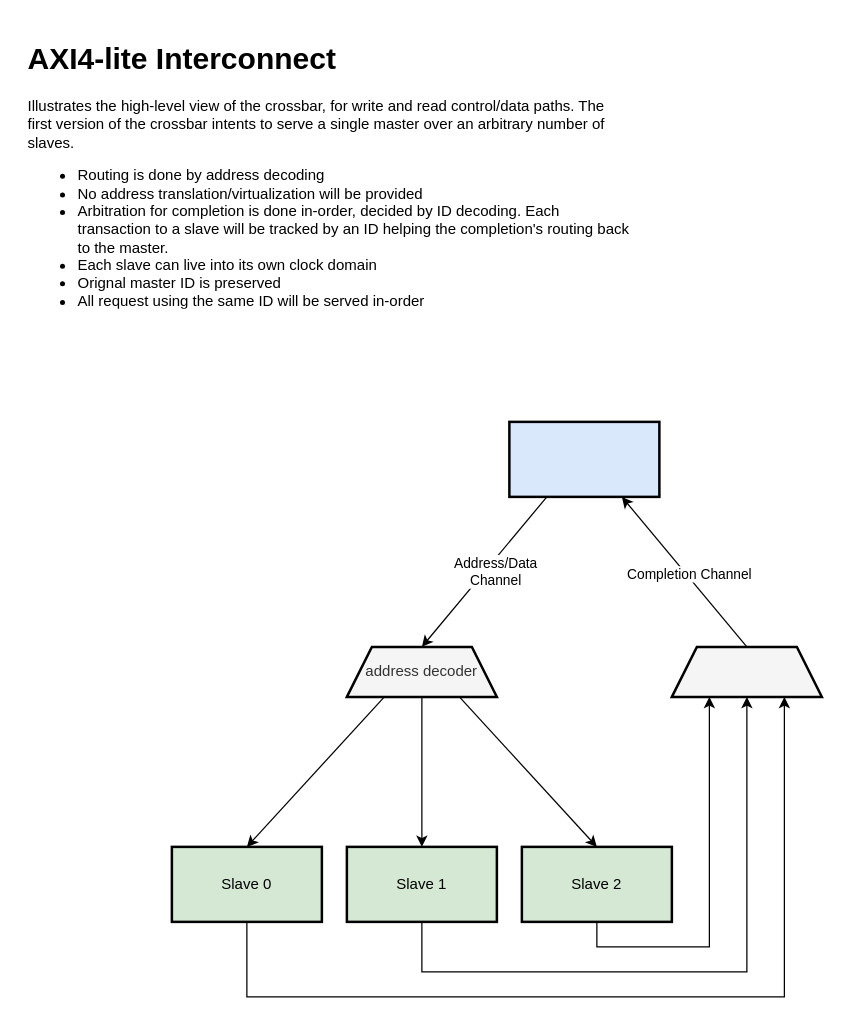
Some shapes in this 844 by 1029 pixel diagram are drawn without their labels. The shapes that lost their labels are listed below. From the top down, each one's centre as x and y in pixels, then its label:
pixel 584 459: Master 0
pixel 746 671: arbitrer
